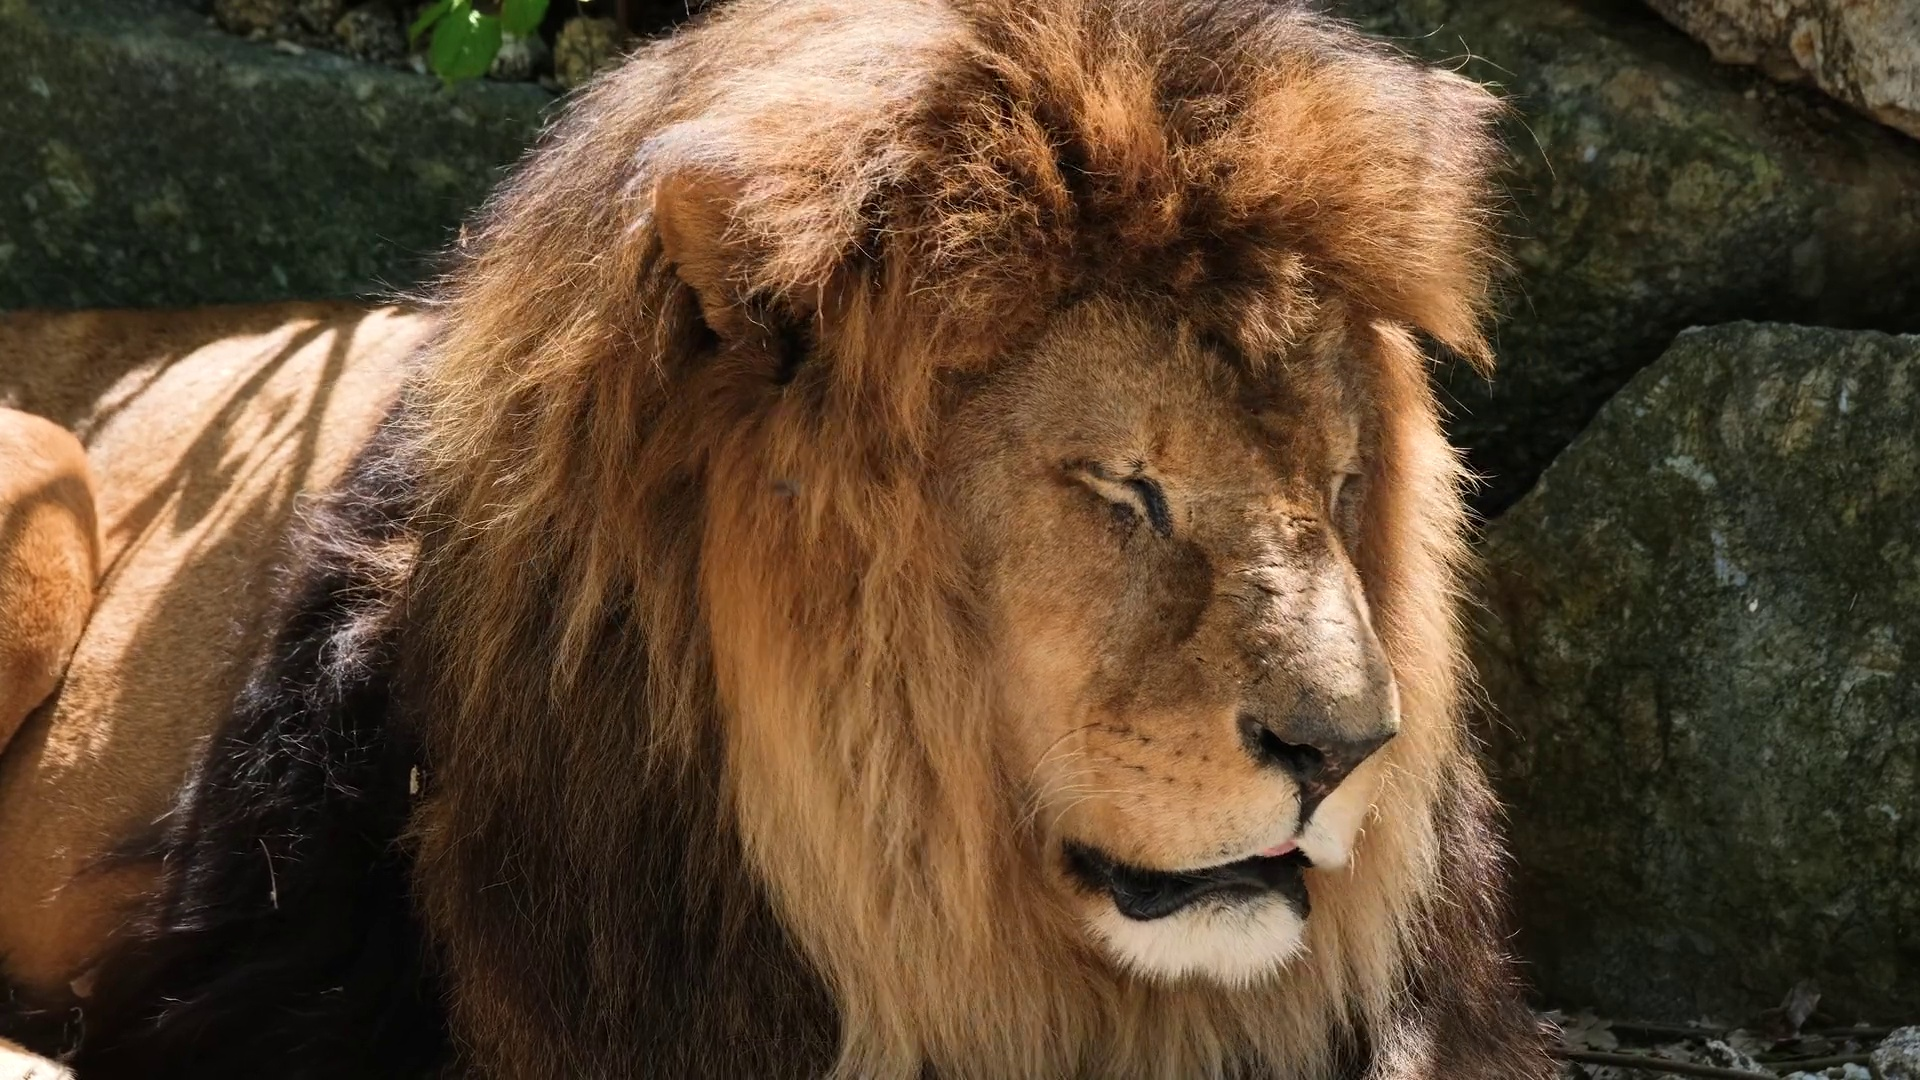Lion: (4, 3, 1560, 1080)
